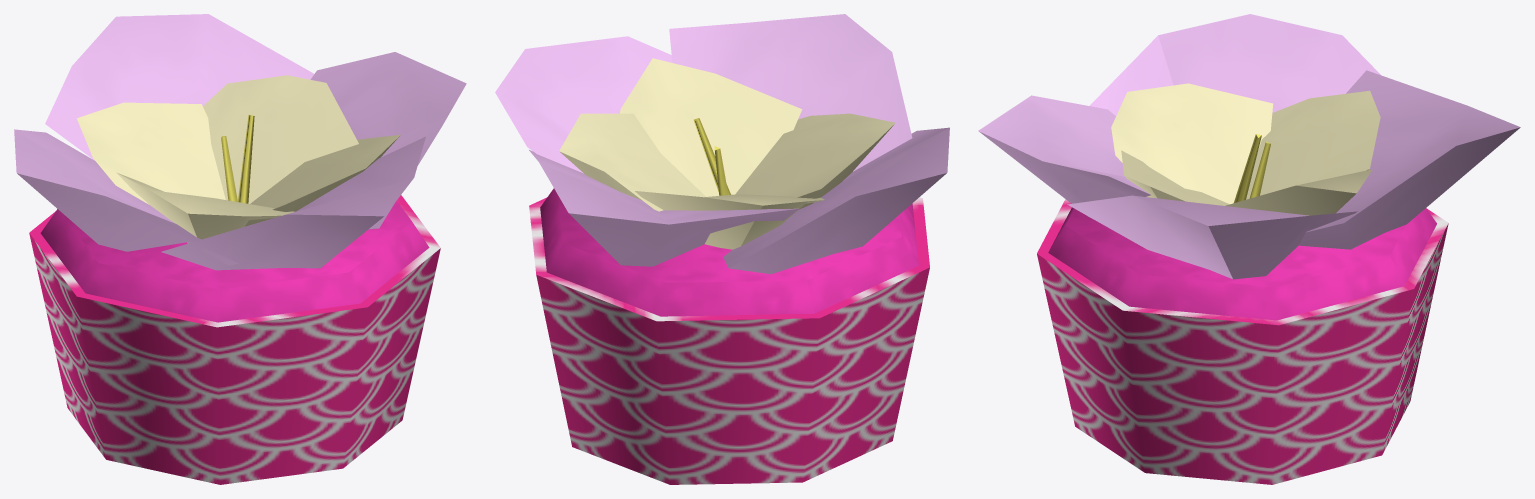
Rendered from Cupcake_B_20.FBX.
3 views of the same model, side by side, from view 1: azimuth 30°, elevation 25°; view 2: azimuth 150°, elevation 25°; view 3: azimuth 270°, elevation 25° (orthographic). The views are drawn at different scales.
Parts seen in each view (by area): view 1: Cupcake_B; view 2: Cupcake_B; view 3: Cupcake_B.
Part boxes in pixels (left/top/right/bottom): Cupcake_B: left=14, top=14, right=466, bottom=484; Cupcake_B: left=495, top=14, right=949, bottom=484; Cupcake_B: left=978, top=14, right=1520, bottom=484.
Bounding box in the file's own units: 38.73 × 26.15 × 41.87.
